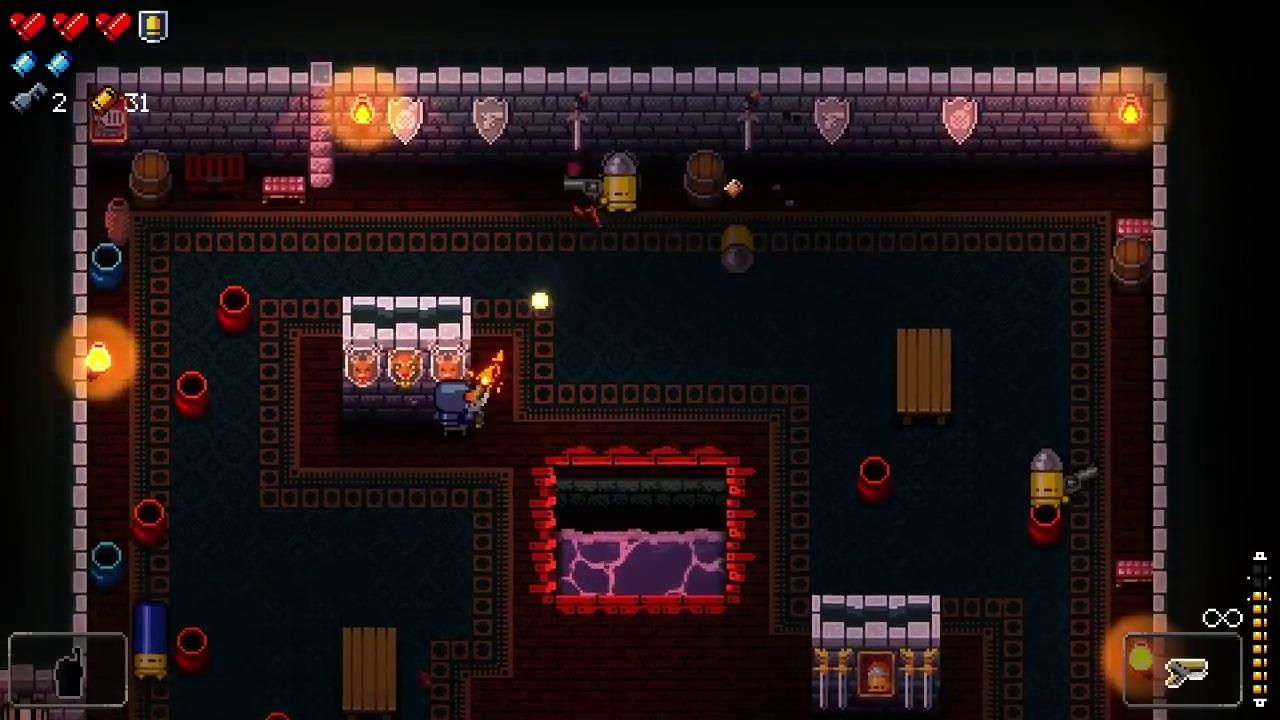blue_shotgun_kin: (131, 603, 169, 682)
bullet_kin: (600, 152, 636, 213), (1030, 448, 1063, 507)
dead_bullet_kin: (720, 223, 757, 278)
player: (436, 380, 475, 436)
table: (898, 327, 952, 428), (343, 627, 397, 719)
water_pit: (528, 442, 758, 617)
